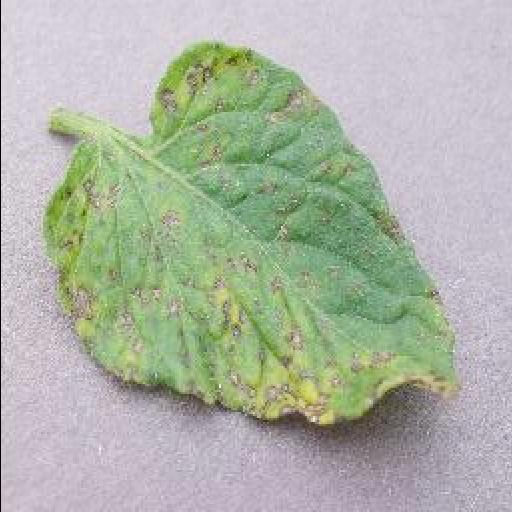disease_tomato: (43, 44, 465, 424)
